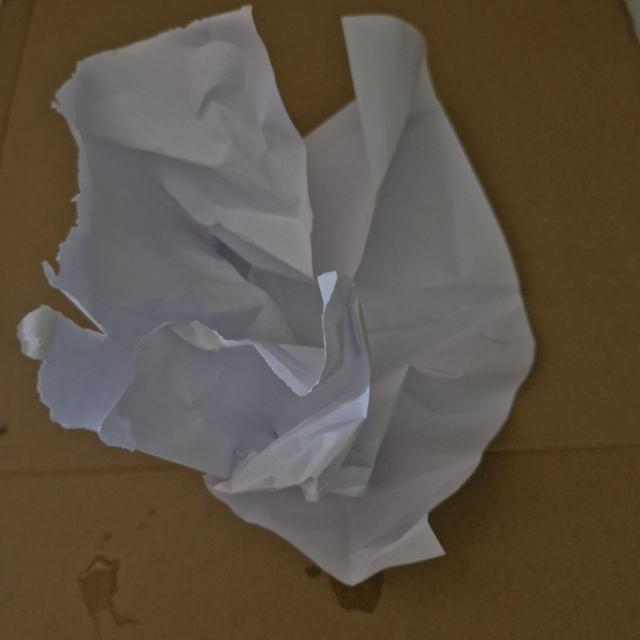paper: (34, 11, 538, 584)
